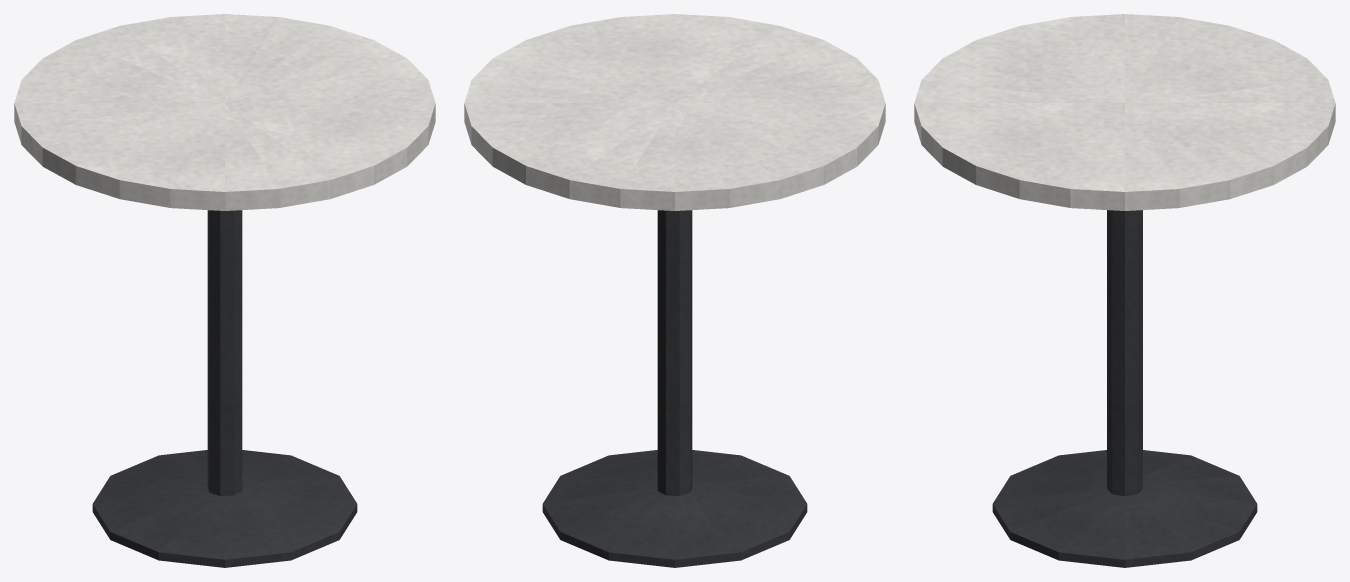
The model's file is SM_Morin_Tavolino.fbx.
3 renders of one model, left to right at view 1: azimuth 30°, elevation 25°; view 2: azimuth 150°, elevation 25°; view 3: azimuth 270°, elevation 25°, orthographic.
Parts seen in each view (by area): view 1: SM_Morin_Tavolino; view 2: SM_Morin_Tavolino; view 3: SM_Morin_Tavolino.
Part boxes in pixels (x1,y1,x2,y2): SM_Morin_Tavolino: (14,14,435,567); SM_Morin_Tavolino: (464,14,885,567); SM_Morin_Tavolino: (914,14,1335,567).
Size of what is drawn, in the model's own units: 70 by 70 by 75.
1 material, 1 textured.
